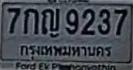2: (81, 8, 95, 35)
3: (97, 8, 111, 35)
7: (113, 8, 128, 36), (8, 8, 21, 34)
9: (65, 9, 78, 34)
A01: (23, 8, 39, 35)
A13: (41, 8, 59, 38)
BKK: (16, 42, 117, 59)
